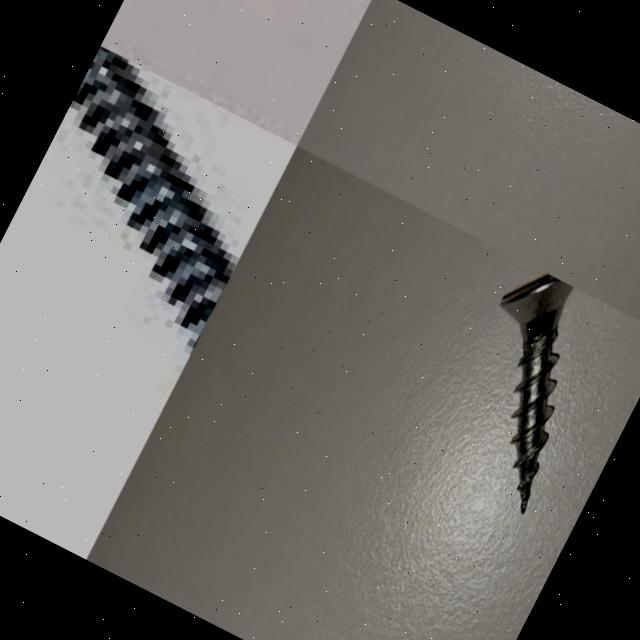Screw: (72, 46, 235, 352), (500, 275, 574, 515)
